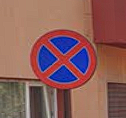oprirea_interzisa: (30, 30, 97, 90)
